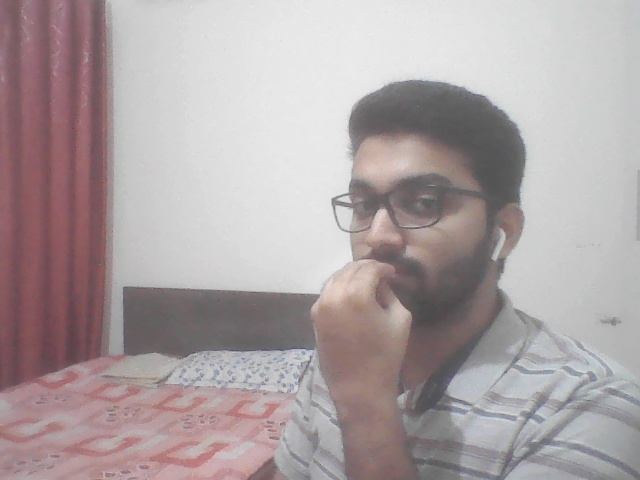eat: (288, 242, 431, 442)
